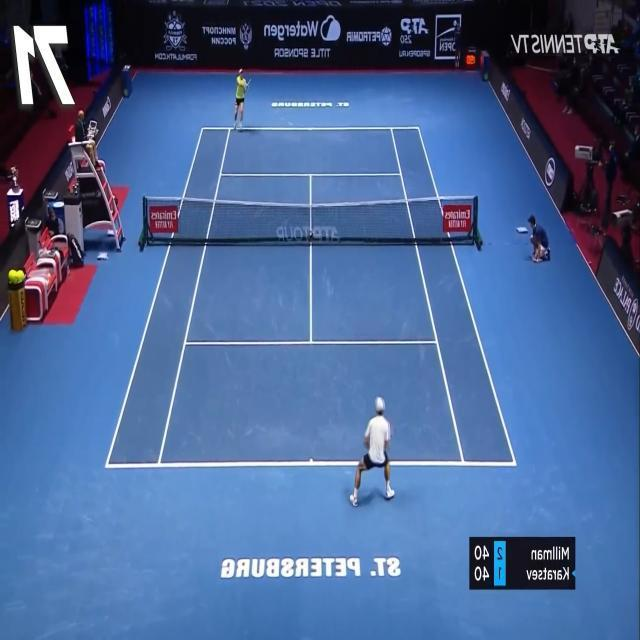court: (104, 127, 517, 470)
net: (142, 194, 479, 244)
player: (348, 395, 396, 507), (234, 67, 252, 132)
